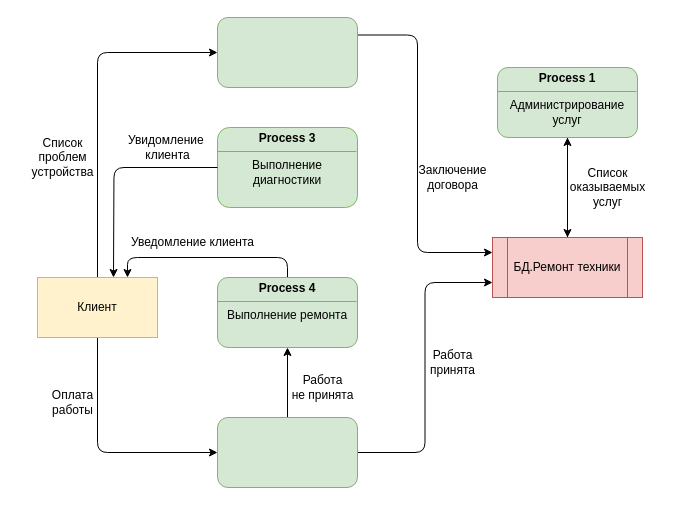
The diagram is 674 pixels wide and 505 high, and some of its shapes have lost their labels. Each missing label, with the centre of its shape:
"Process 2 Создание заказа" belongs at point (287, 52).
"Process 5 Приемка работы" belongs at point (287, 452).
